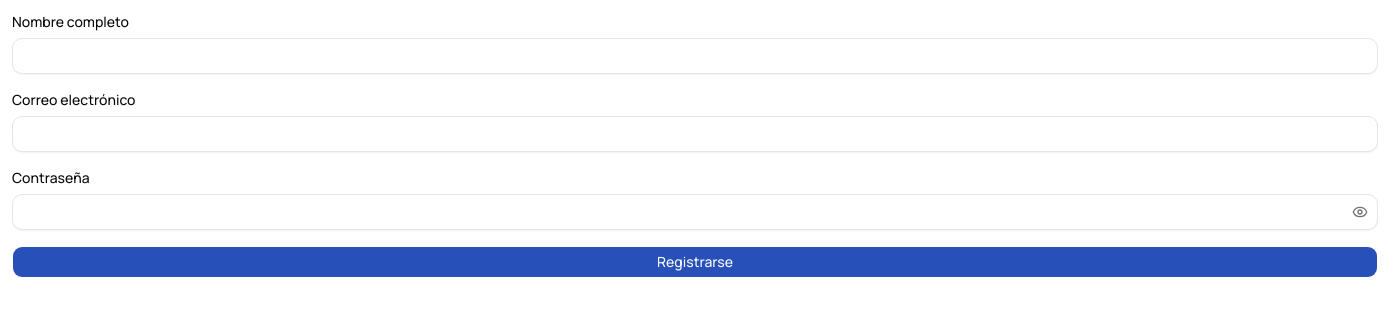
it: RegisterForm › shows the backend's detail inline on a duplicate email, session stays anonymous, no redirect
The width and height of the screenshot is (1390, 330).
Type "dup@b.com" into the field labelled "Correo electrónico" at (695, 134), box 12,116 -> 1378,152
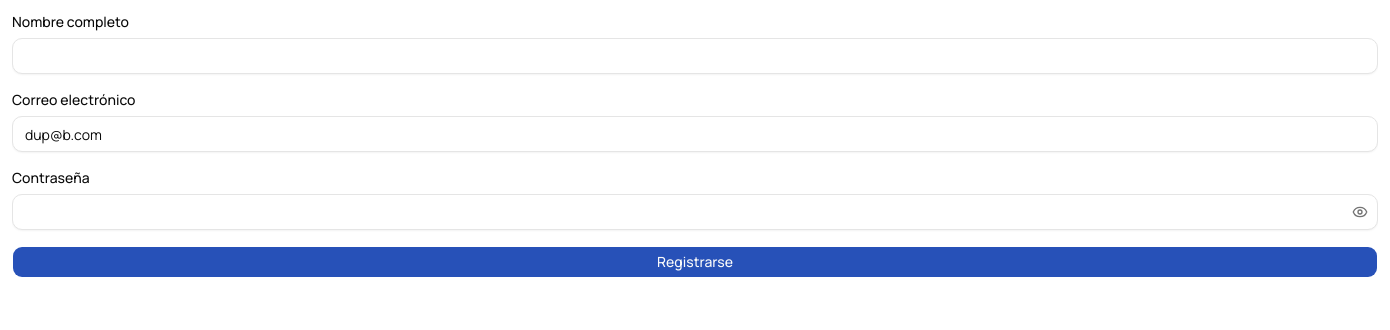
Type "s3cret!" into the password field labelled "Contraseña" at (695, 212), box 12,194 -> 1378,230
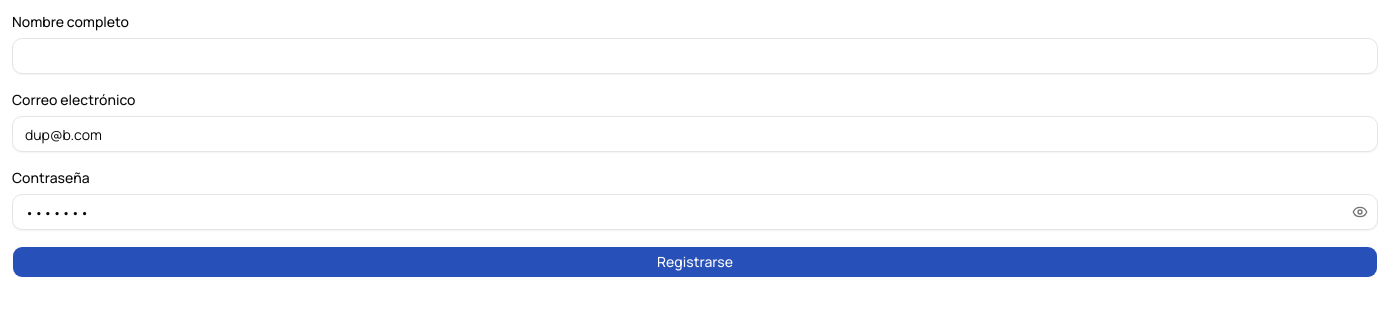
Click the button "Registrarse" at (695, 262), box 12,246 -> 1378,278
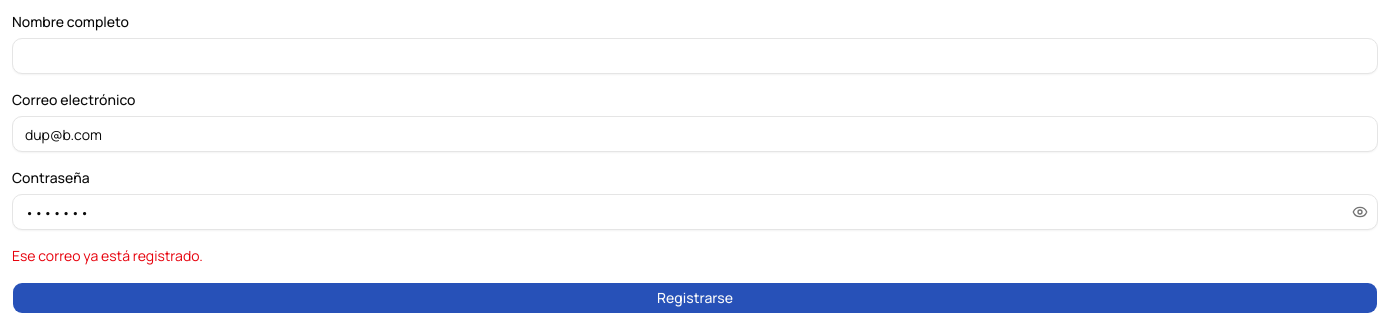
Result: the message reads "Ese correo ya está registrado." at 12,246 -> 203,265
